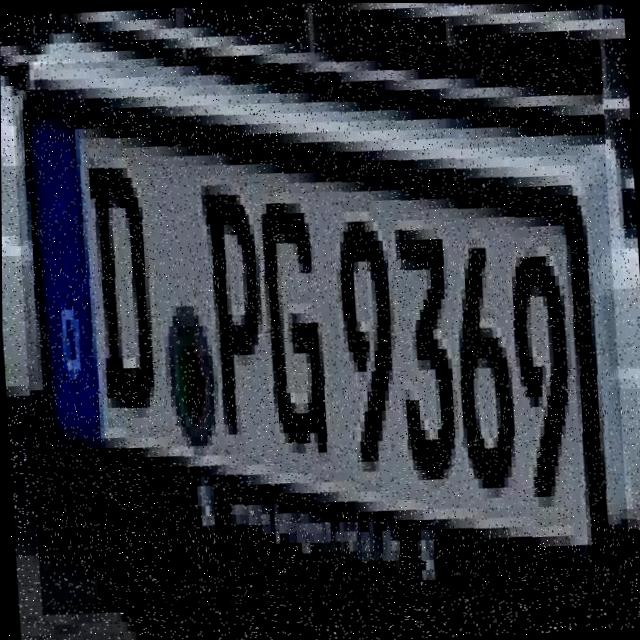LicensePlate: (10, 35, 631, 619)
